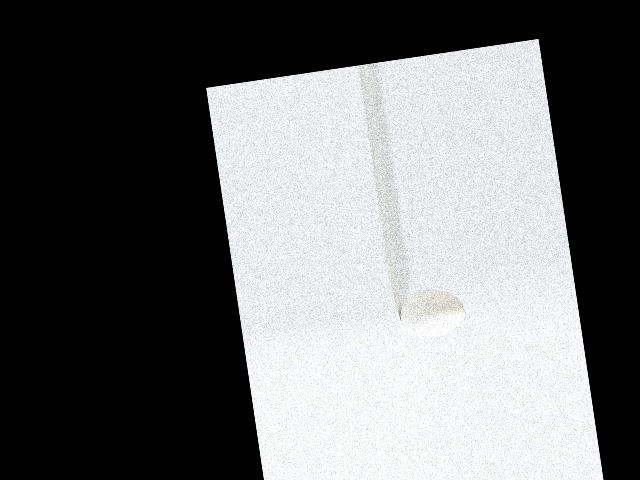egg: (396, 285, 468, 342)
